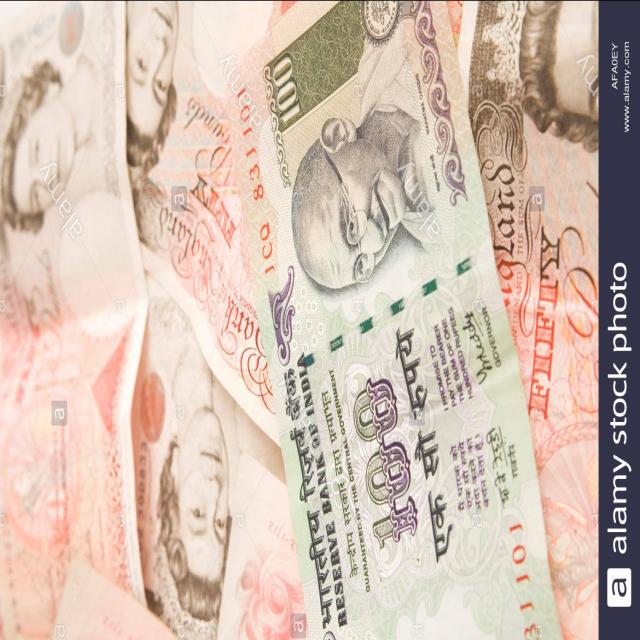100IndianRupees: (228, 0, 562, 640)
